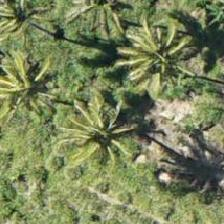coconut_tree: (110, 7, 200, 97), (75, 89, 165, 179), (0, 47, 71, 137), (0, 0, 65, 59)
